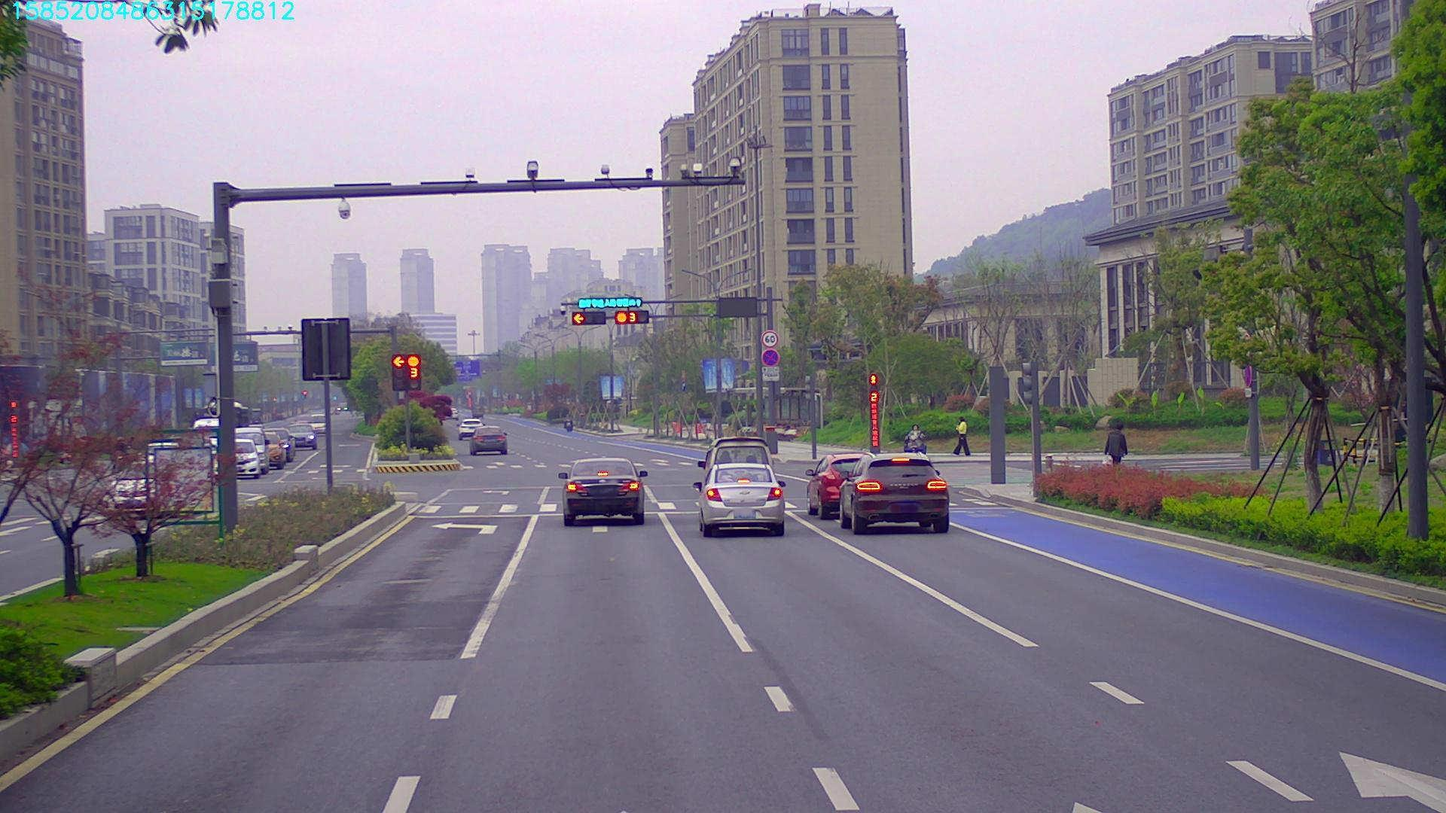red: (567, 308, 602, 322), (616, 312, 646, 322)
wait_on: (572, 294, 645, 306)
